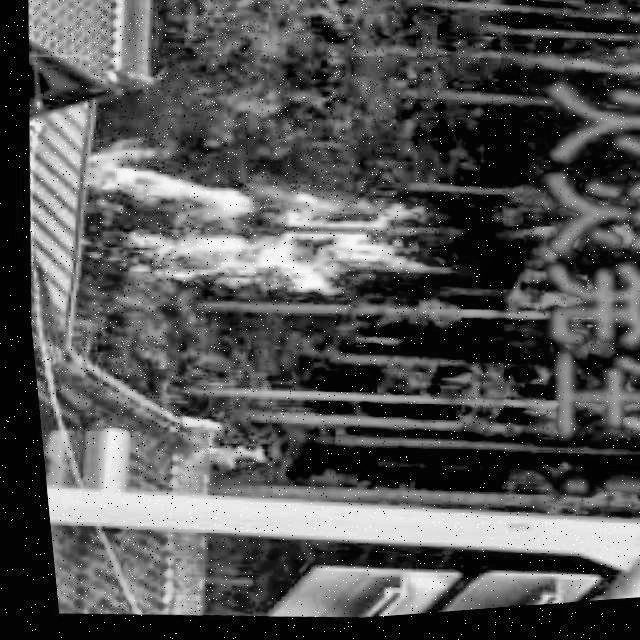Smoke: (60, 118, 463, 333)
